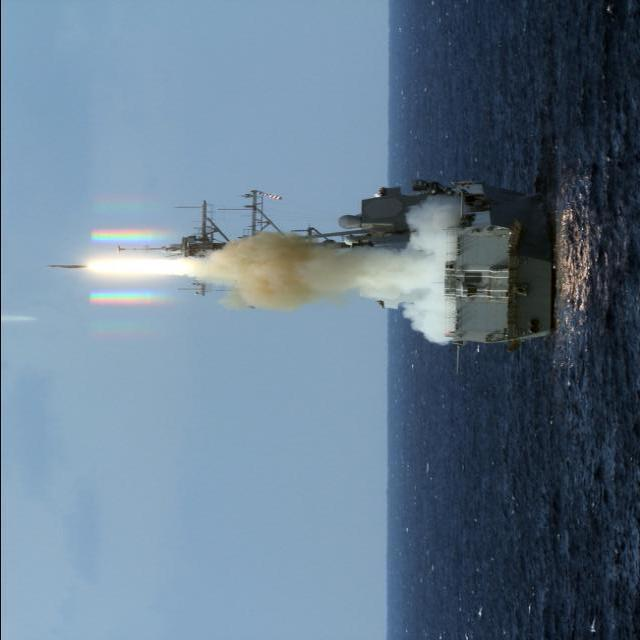missile: (37, 253, 106, 290)
